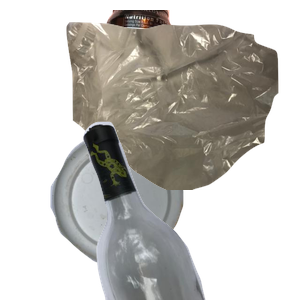glass: (81, 120, 300, 300)
metal: (91, 10, 258, 188)
plastic: (48, 132, 224, 300)
trash: (64, 20, 300, 200)
